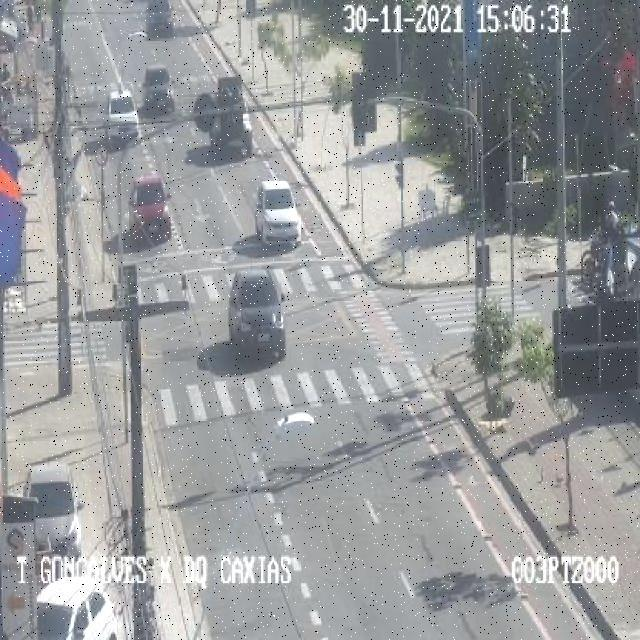Car: (227, 269, 285, 353), (254, 180, 305, 248), (128, 175, 170, 242), (106, 87, 140, 144), (143, 62, 171, 116)
